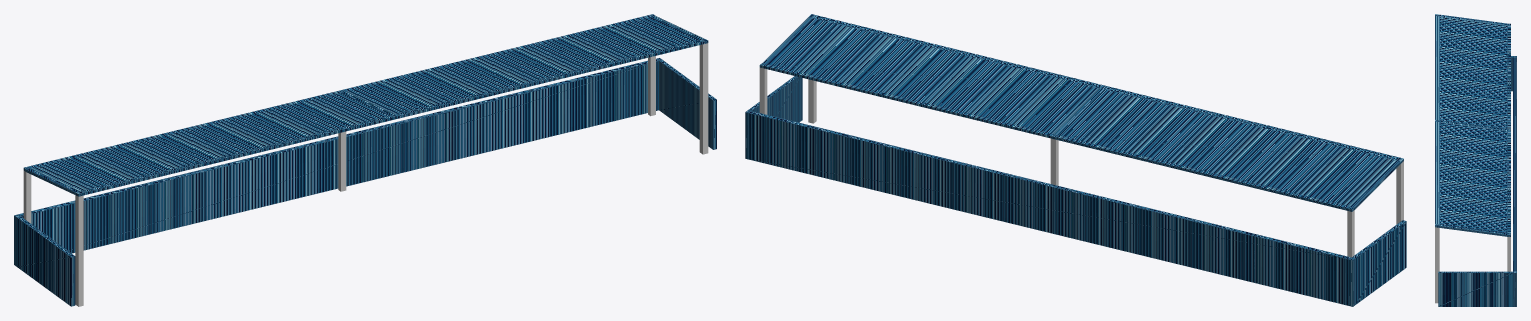
The model's file is tyurin.fbx.
3 renders of one model, left to right at view 1: azimuth 30°, elevation 25°; view 2: azimuth 150°, elevation 25°; view 3: azimuth 270°, elevation 25°, orthographic. The views are drawn at different scales.
Visible parts, largest first — view 1: Cube.001, Cube; view 2: Cube, Cube.001; view 3: Cube, Cube.001.
Boxes of the visible parts, x1,y1,x2,y2 form: Cube.001: [14, 58, 716, 306]; Cube: [23, 14, 708, 306]; Cube: [759, 14, 1403, 257]; Cube.001: [745, 76, 1406, 306]; Cube: [1435, 14, 1510, 303]; Cube.001: [1438, 56, 1516, 306].
Bounding box in the file's own units: 1962 × 328 × 313.
